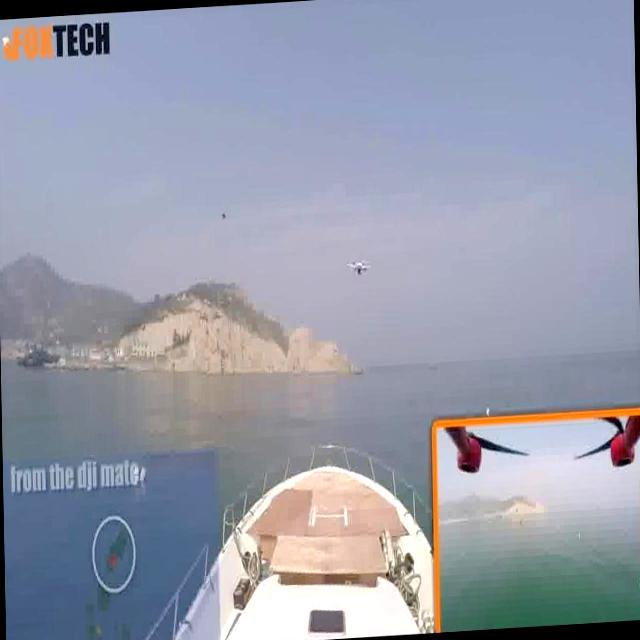drone: (343, 255, 373, 285), (215, 202, 238, 226)
